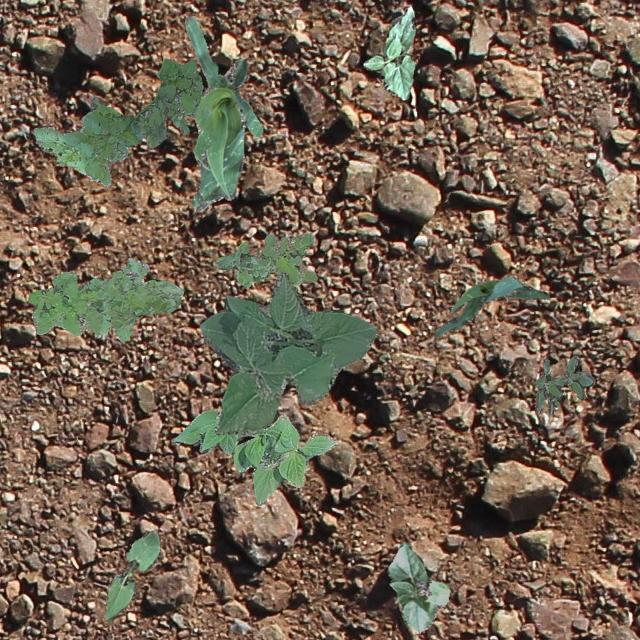crop: (198, 270, 376, 434), (170, 408, 338, 504), (184, 14, 262, 210), (432, 276, 548, 336), (386, 542, 448, 632), (362, 5, 414, 99), (104, 530, 158, 620)
weed: (32, 58, 202, 186), (26, 256, 182, 342), (216, 232, 316, 286), (532, 354, 594, 414)
